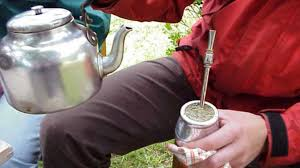mate: (175, 99, 221, 146)
